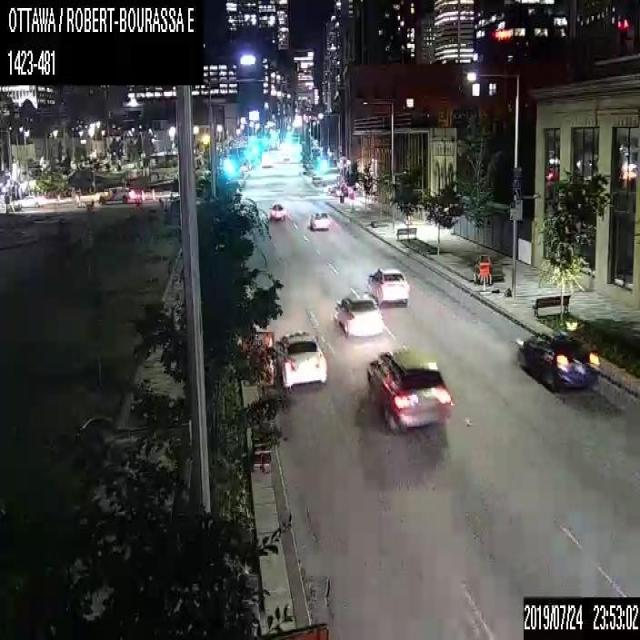construction: (240, 330, 274, 470), (478, 262, 489, 294)
vehicle: (366, 345, 452, 432), (516, 332, 598, 392), (276, 328, 328, 388), (332, 292, 382, 337), (364, 267, 409, 306), (96, 183, 129, 201), (14, 192, 42, 207), (309, 209, 328, 231), (267, 200, 284, 219)
